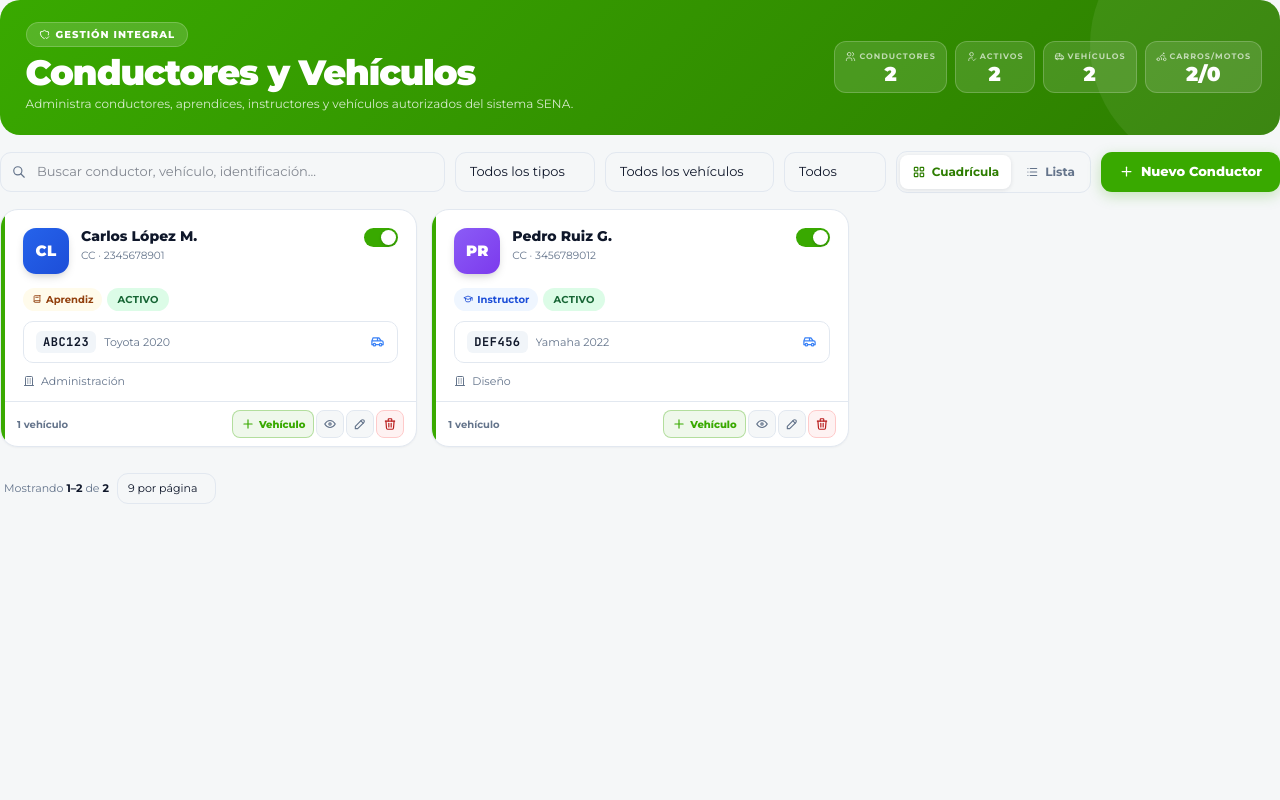
features/conductores › vincular un vehículo existente como copropietario lo muestra en la tarjeta del nuevo conductor
Expected: the text "Pedro Ruiz G." is shown, [512, 227, 612, 245]
Click the button with aria-label "Agregar vehículo a Pedro Ruiz G.": (704, 424) [663, 410, 746, 438]
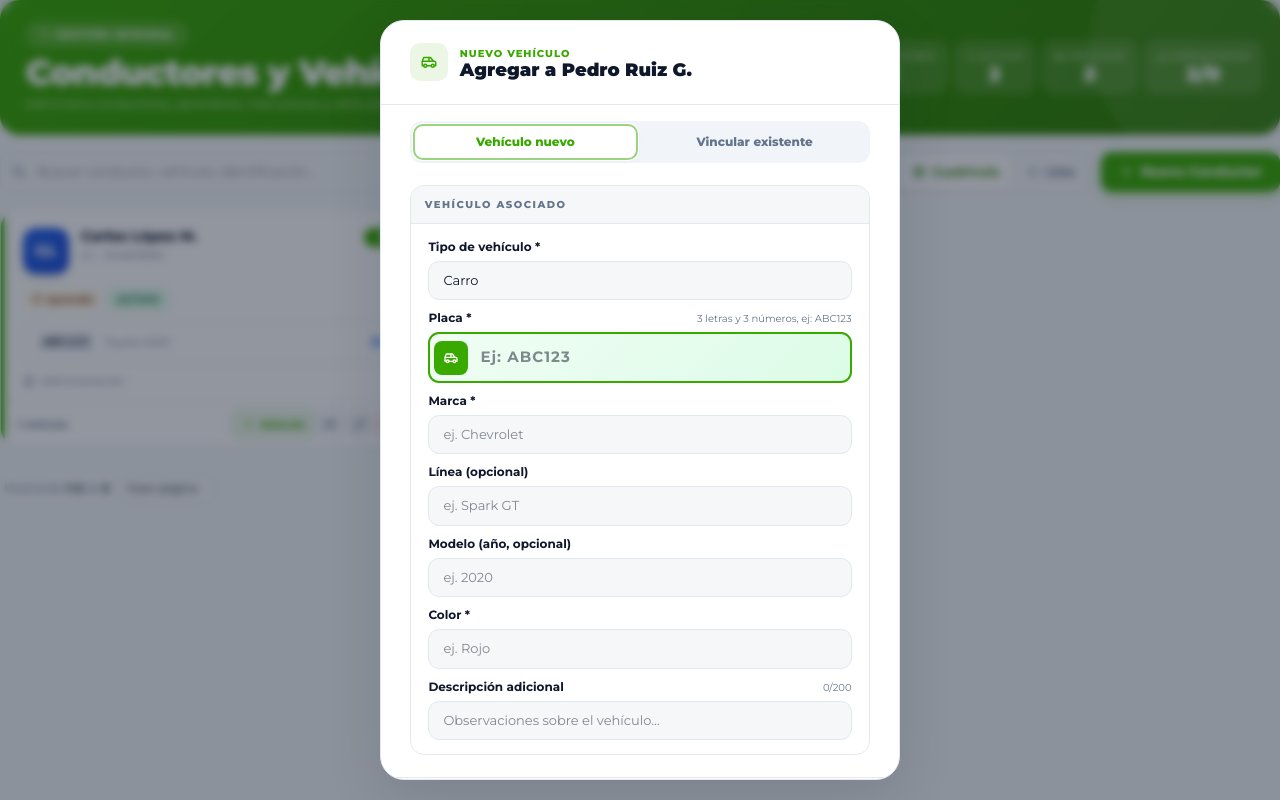
Click the button "Vincular existente": (755, 142) [643, 125, 866, 159]
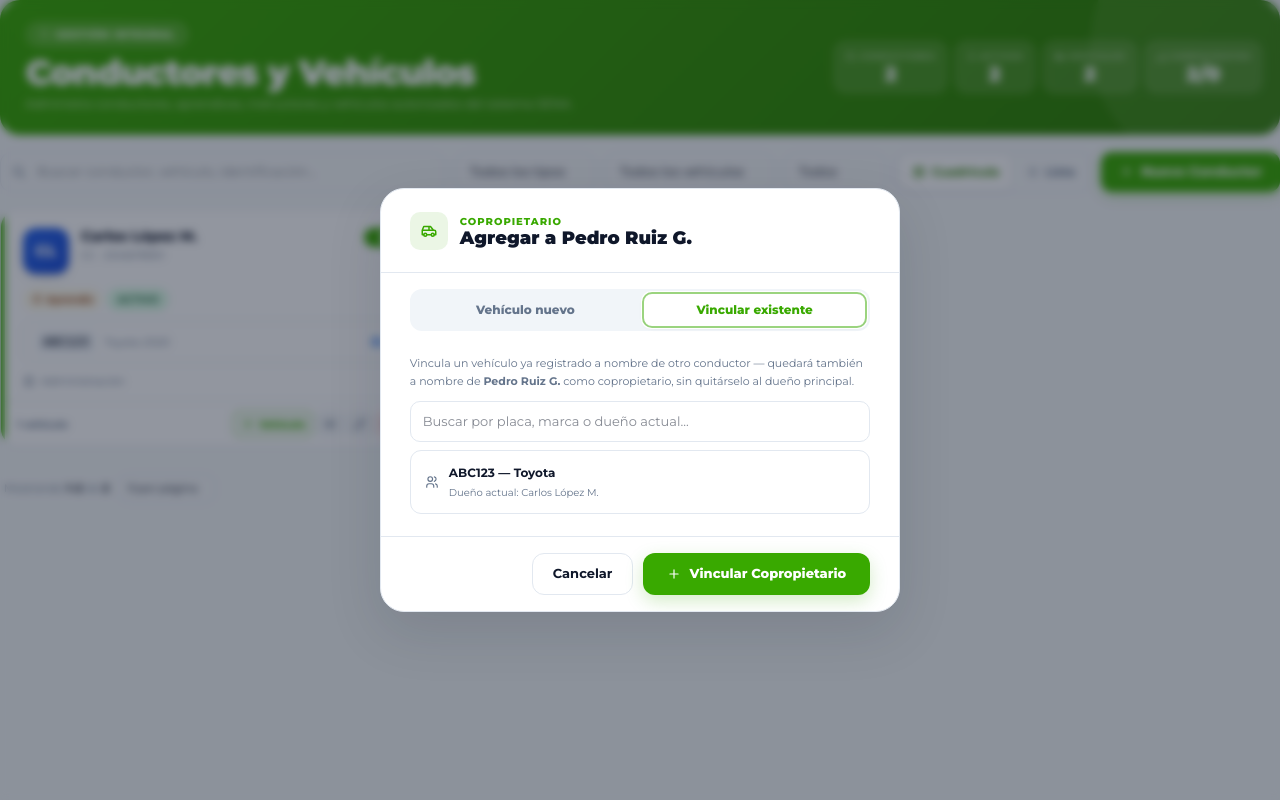
Click the text "ABC123 — Toyota": (502, 473) [449, 465, 555, 480]
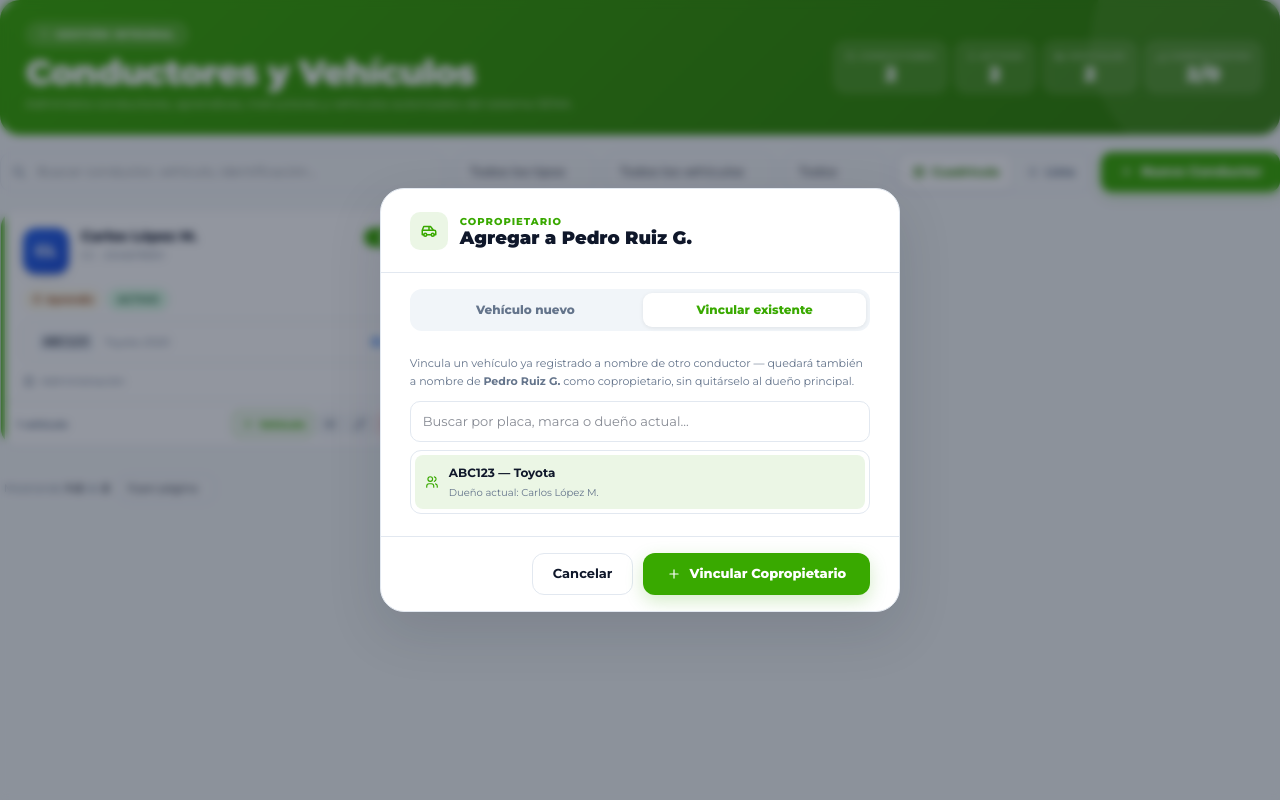
Click the button "Vincular Copropietario": (757, 574) [644, 553, 870, 595]
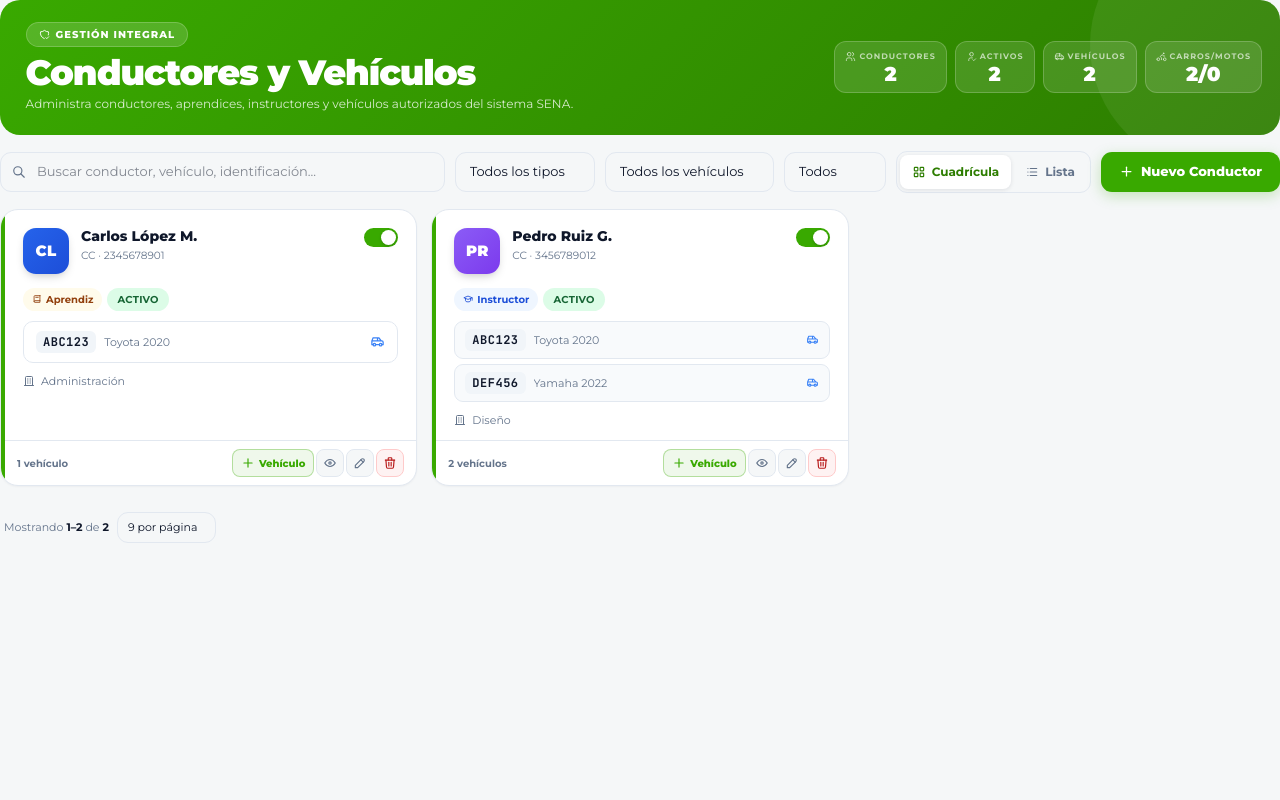
Result: the text "ABC123" below "3456789012" is shown at [472, 332, 518, 348]
Result: the dialog is gone
Result: the text "2 vehículos" is shown at [448, 456, 507, 471]
